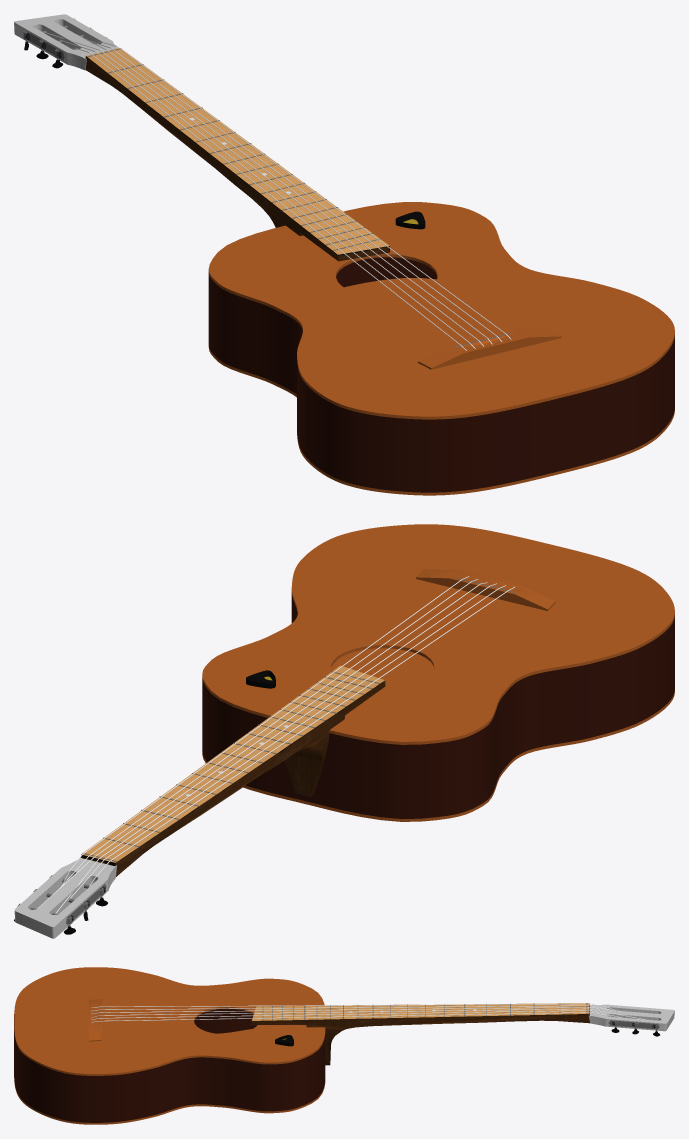
File: Guitar.obj
3 views of the same model, one above another, from view 1: azimuth 30°, elevation 25°; view 2: azimuth 150°, elevation 25°; view 3: azimuth 270°, elevation 25° (orthographic). The views are drawn at different scales.
Parts seen in each view (by area): view 1: Line001, Line003, Line004, Line002, Line005, Box001, Cylinder022, Cylinder021, Cylinder023, Cylinder024, Cylinder025; view 2: Line001, Line003, Line004, Line002, Line005, Box001, Cylinder022, Cylinder023, Cylinder021, Cylinder020, Cylinder024, Cylinder025; view 3: Line001, Line003, Line004, Line005, Line002, Cylinder023, Cylinder024, Cylinder022, Cylinder025, Cylinder021, Cylinder020, Box001.
Boxes of the visible parts, bbox=[...] form: Line001: bbox=[208, 202, 674, 419]; Line003: bbox=[208, 257, 674, 492]; Line004: bbox=[85, 48, 389, 261]; Line002: bbox=[208, 278, 674, 495]; Line005: bbox=[14, 14, 116, 70]; Box001: bbox=[418, 329, 561, 369]; Cylinder022: bbox=[41, 31, 483, 346]; Cylinder021: bbox=[60, 39, 475, 348]; Cylinder023: bbox=[76, 34, 492, 344]; Cylinder024: bbox=[90, 41, 502, 341]; Cylinder025: bbox=[98, 41, 511, 339]; Line001: bbox=[202, 524, 674, 744]; Line003: bbox=[202, 592, 674, 818]; Line004: bbox=[80, 665, 385, 876]; Line002: bbox=[202, 648, 674, 821]; Line005: bbox=[14, 858, 116, 938]; Box001: bbox=[416, 569, 555, 610]; Cylinder022: bbox=[55, 583, 496, 913]; Cylinder023: bbox=[37, 582, 487, 908]; Cylinder021: bbox=[68, 585, 505, 900]; Cylinder020: bbox=[89, 586, 515, 886]; Cylinder024: bbox=[58, 579, 478, 889]; Cylinder025: bbox=[62, 576, 468, 883]; Line001: bbox=[14, 967, 325, 1075]; Line003: bbox=[14, 1009, 325, 1122]; Line004: bbox=[251, 1003, 589, 1065]; Line005: bbox=[588, 1004, 674, 1031]; Line002: bbox=[14, 1029, 325, 1124]; Cylinder023: bbox=[91, 1008, 645, 1019]; Cylinder024: bbox=[91, 1010, 621, 1019]; Cylinder022: bbox=[91, 1007, 620, 1014]; Cylinder025: bbox=[92, 1012, 610, 1022]; Cylinder021: bbox=[91, 1005, 609, 1011]; Cylinder020: bbox=[92, 1004, 615, 1010]; Box001: bbox=[88, 999, 101, 1041].
Bounding box in the file's own units: 45.04 × 12.4 × 118.
